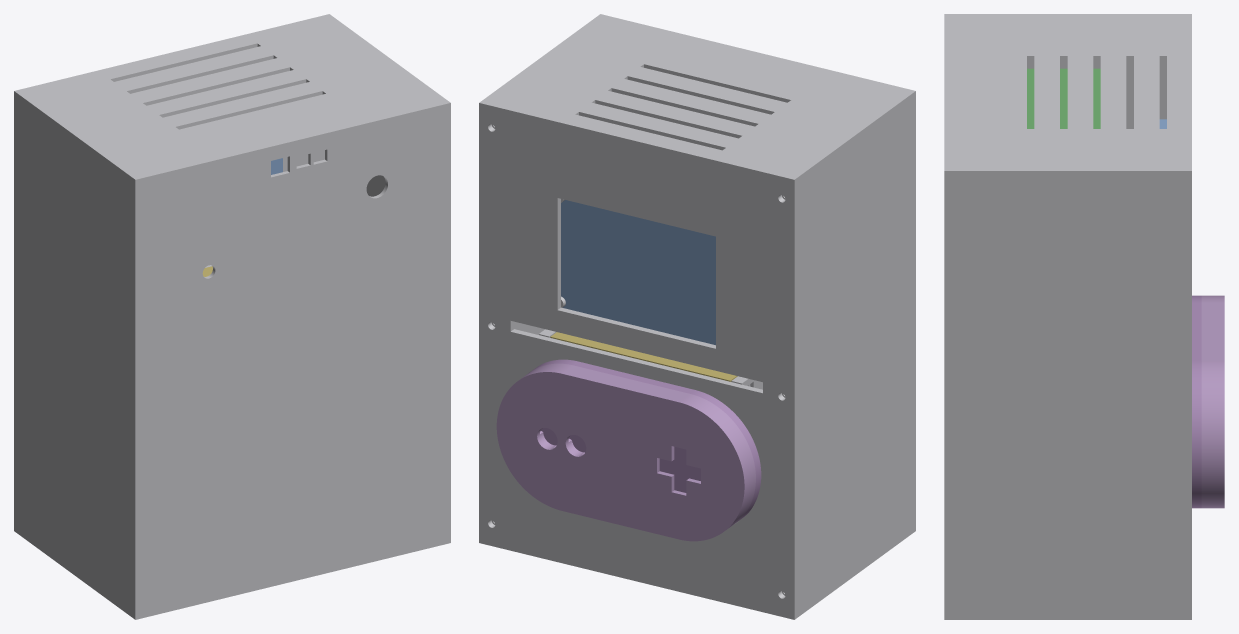
Rendered from assembly.glb.
3 views of the same model, side by side, from view 1: azimuth 30°, elevation 25°; view 2: azimuth 150°, elevation 25°; view 3: azimuth 270°, elevation 25° (orthographic). The views are drawn at different scales.
Parts seen in each view (by area): view 1: rear_shell, front_shell; view 2: rear_shell, front_shell, puck_top, display, puck_bottom, card; view 3: rear_shell, puck_top, front_shell, puck_bottom, pi.
Boxes of the visible parts, x1,y1,x2,y2 form: rear_shell: (17,16,450,619); front_shell: (14,14,332,533); rear_shell: (483,14,915,616); front_shell: (479,100,797,619); puck_top: (496,363,755,541); display: (561,200,715,345); puck_bottom: (532,359,761,521); card: (550,332,737,381); rear_shell: (944,14,1184,619); puck_top: (1201,295,1224,508); front_shell: (1184,14,1191,619); puck_bottom: (1192,295,1201,508); pi: (1027,68,1100,128).
Bounding box in the file's own units: 150 × 200 × 113.
